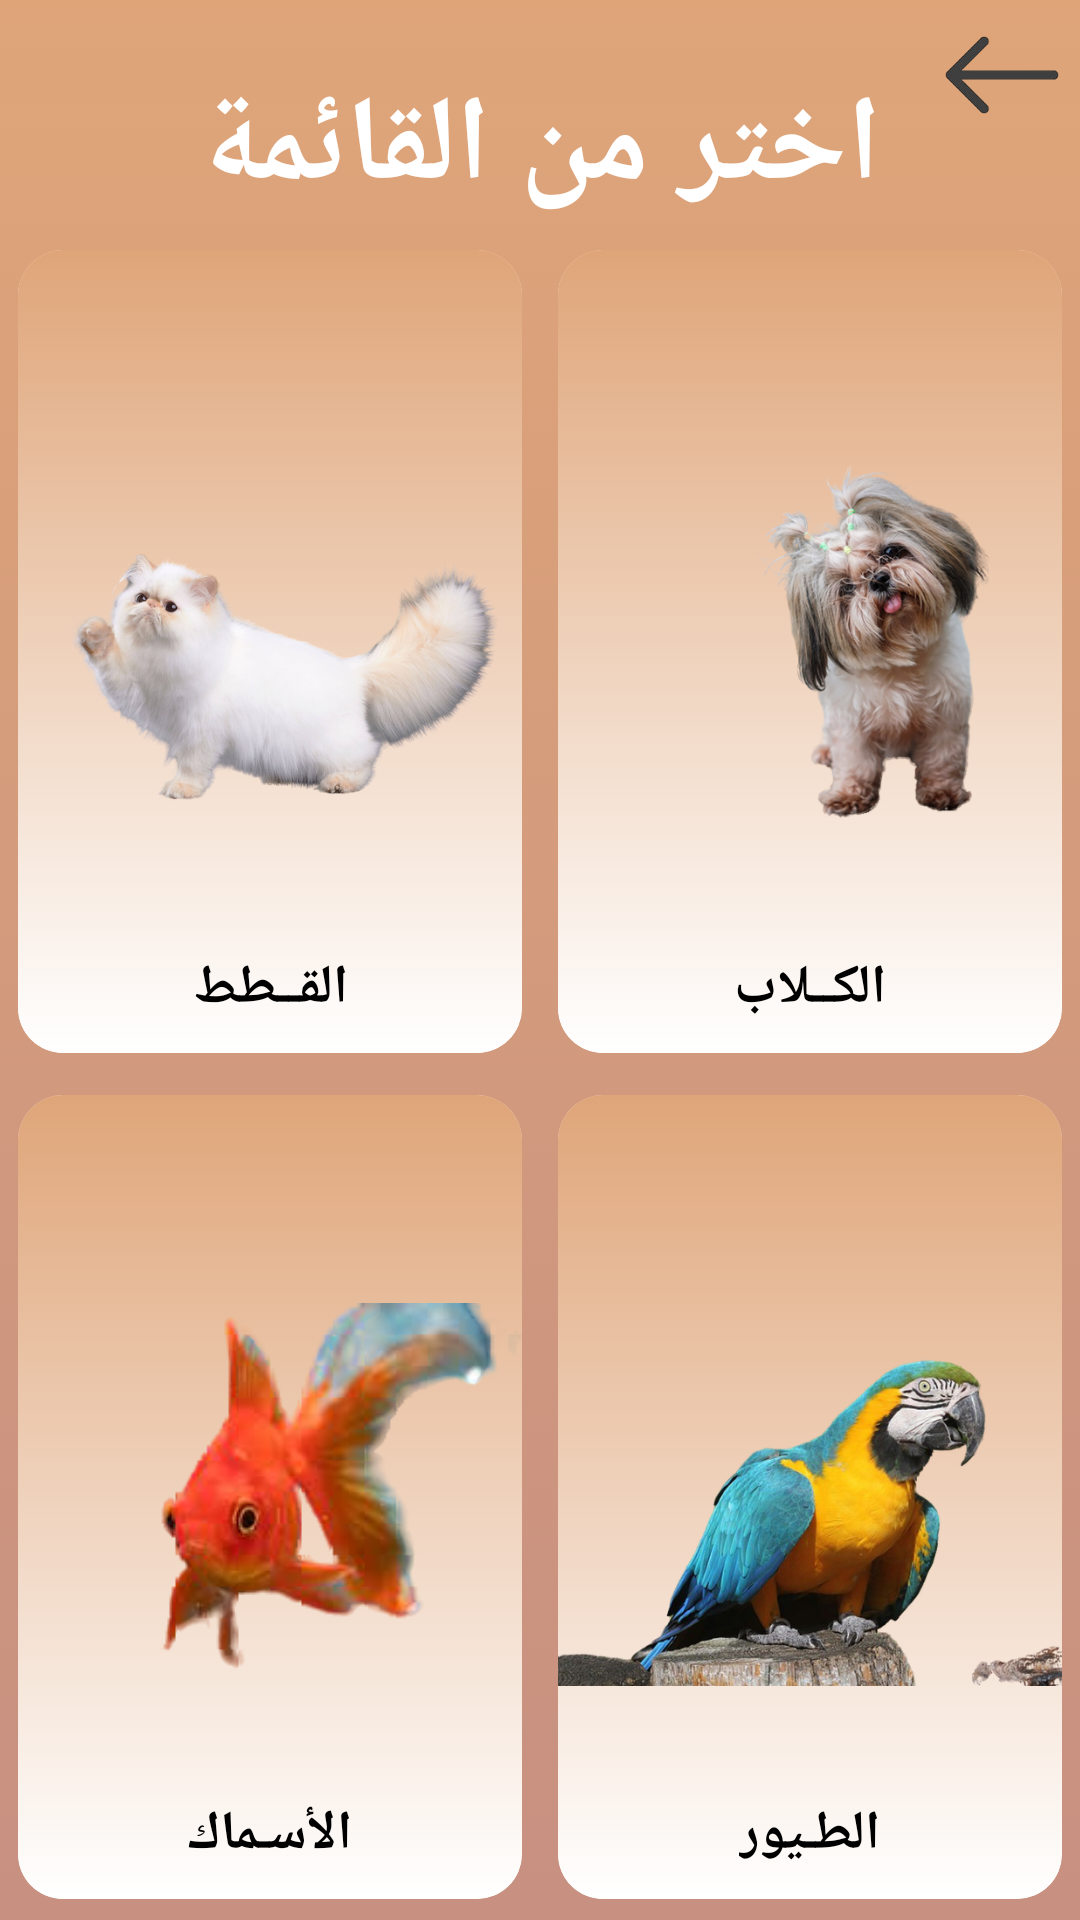

Named icons in this screenshot (1080×1920) and their centers, (x,y):
back: (1002,75)
